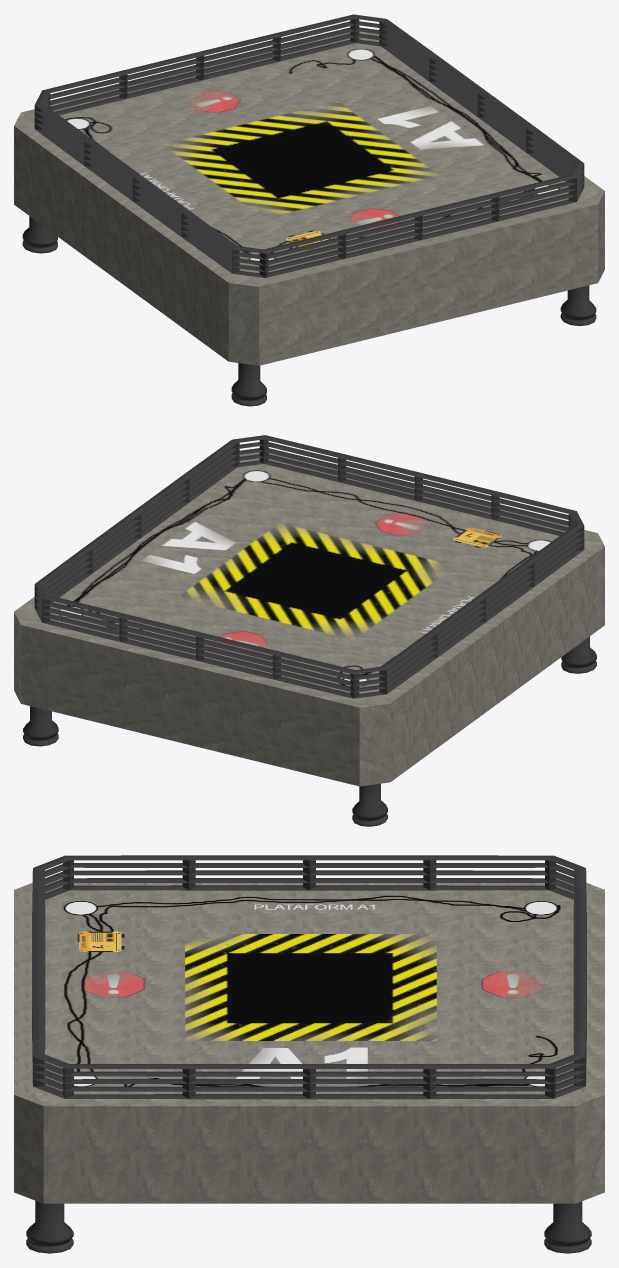
File: plataforma.obj
The picture shows the model from 3 angles, top to bottom: view 1: azimuth 30°, elevation 25°; view 2: azimuth 150°, elevation 25°; view 3: azimuth 270°, elevation 25°; orthographic projection. The views are drawn at different scales.
Visible parts, largest first — view 1: Plataforma_Material.001; view 2: Plataforma_Material.001; view 3: Plataforma_Material.001.
Part boxes in pixels (x1,y1,x2,y2): Plataforma_Material.001: (14,14,604,406); Plataforma_Material.001: (14,435,604,826); Plataforma_Material.001: (14,855,604,1253).
Bounding box in the file's own units: 0.5461 × 0.2058 × 0.599.
